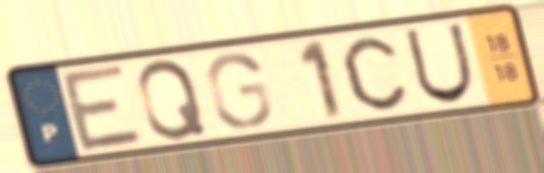1: (295, 36, 348, 123)
C: (338, 33, 411, 113)
E: (56, 60, 149, 155)
G: (203, 50, 275, 131)
Q: (134, 56, 211, 143)
U: (401, 20, 478, 107)
